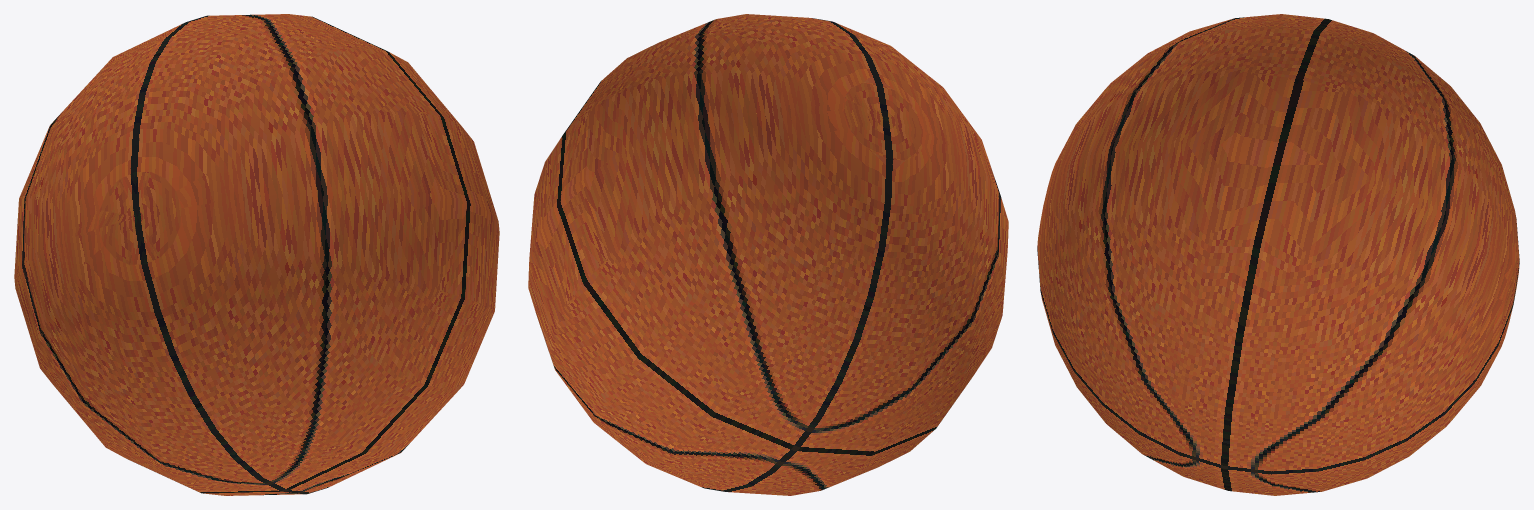
Rendered from ps2_save-icons_nbalive2002.glb.
3 renders of one model, left to right at view 1: azimuth 30°, elevation 25°; view 2: azimuth 150°, elevation 25°; view 3: azimuth 270°, elevation 25°, orthographic.
Parts seen in each view (by area): view 1: xico.ico; view 2: xico.ico; view 3: xico.ico.
Part boxes in pixels (left/top/right/bottom): xico.ico: left=14, top=14, right=499, bottom=495; xico.ico: left=528, top=14, right=1008, bottom=495; xico.ico: left=1037, top=14, right=1519, bottom=495.
Size of the model in its own units: 4 by 4 by 4.
Materials: 1 (1 with a texture image).
